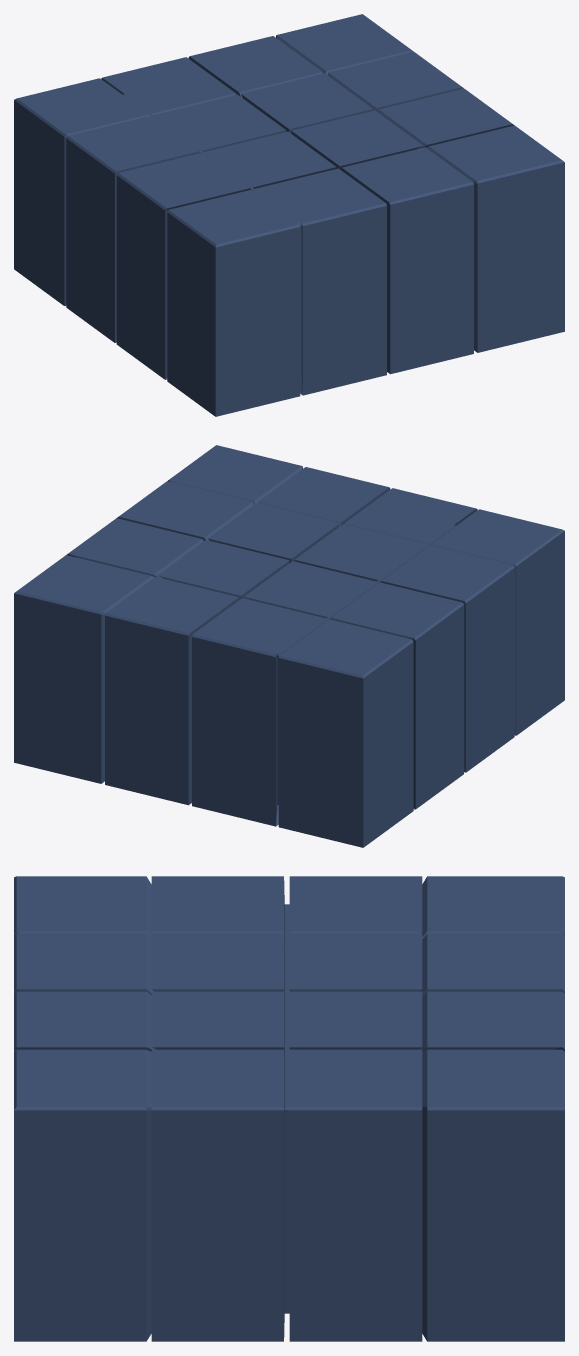
File: skyscraper_floor.obj
3 renders of one model, top to bottom at view 1: azimuth 30°, elevation 25°; view 2: azimuth 150°, elevation 25°; view 3: azimuth 270°, elevation 25°, orthographic. The views are drawn at different scales.
Parts seen in each view (by area): view 1: pCube9; view 2: pCube9; view 3: pCube9.
Part boxes in pixels (x1,y1,x2,y2): pCube9: (14,14,564,416); pCube9: (14,445,564,847); pCube9: (14,876,564,1341).
Bounding box in the file's own units: 1.62 × 0.7571 × 1.62.
